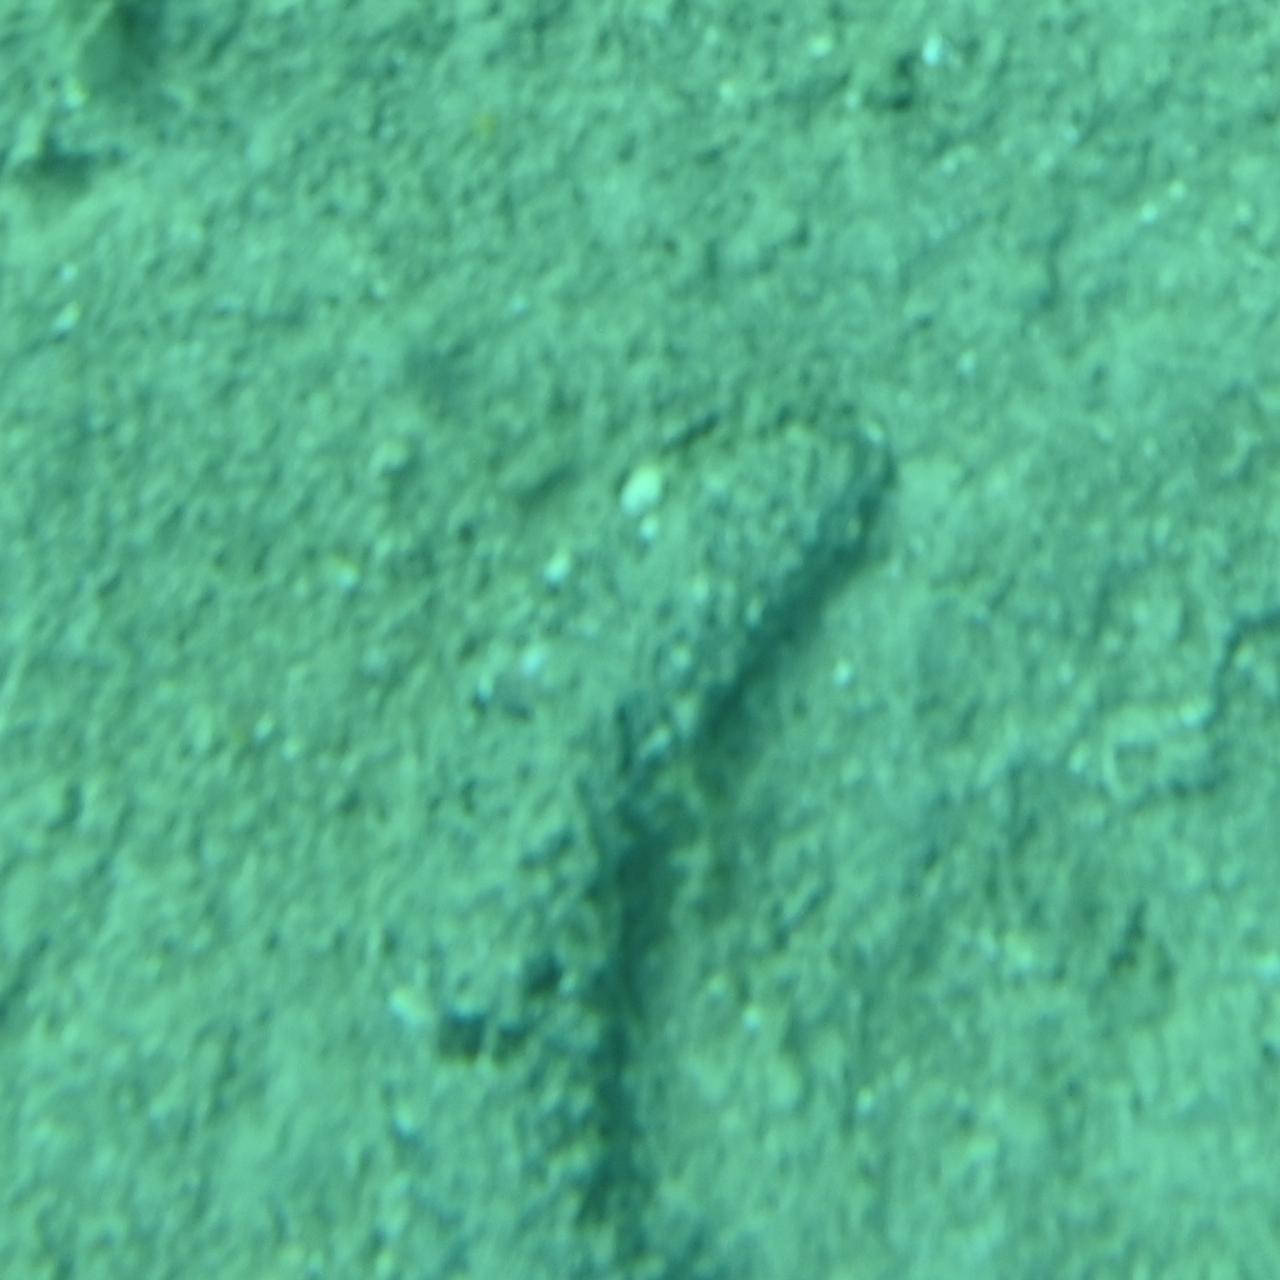Holothuria tubulosa: (359, 381, 921, 1280)
